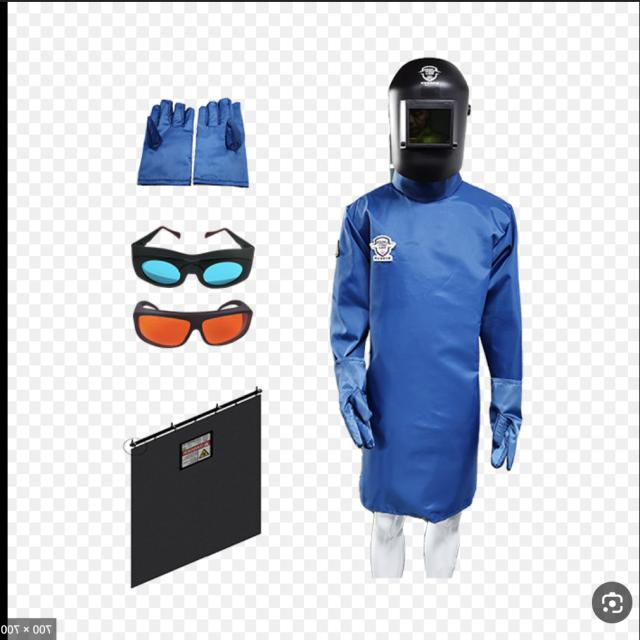gloves: (188, 95, 256, 192), (128, 98, 198, 183), (329, 353, 374, 452), (484, 381, 534, 463)
goggles: (126, 232, 260, 284), (130, 303, 248, 352)
